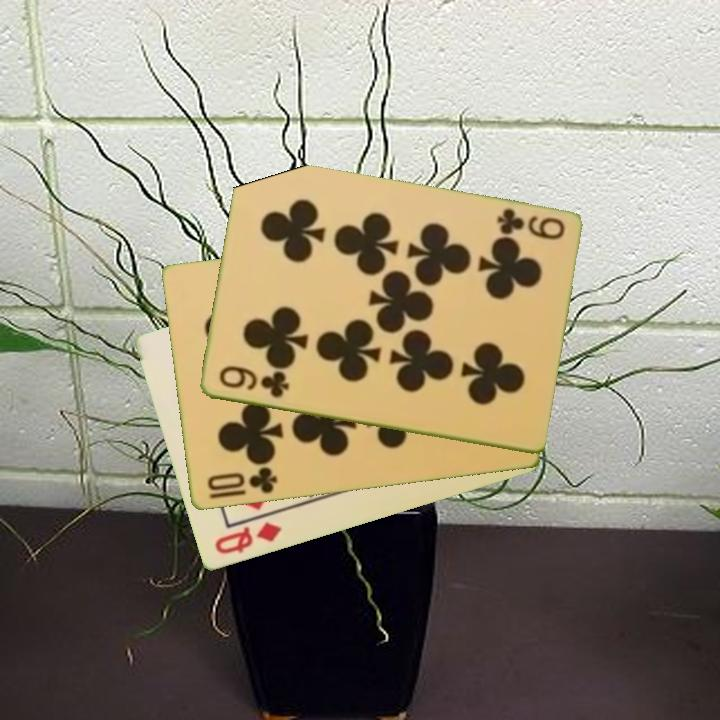10c: (203, 464, 280, 497)
9c: (215, 363, 292, 401), (493, 205, 568, 243)
Qd: (210, 519, 285, 558)
